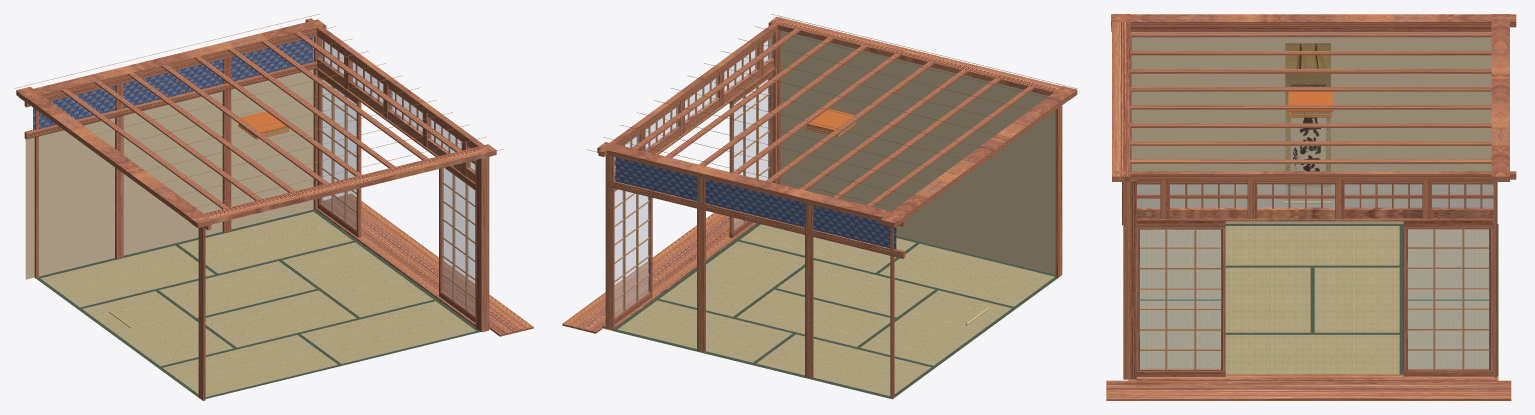
The model's file is room.glb.
3 views of the same model, side by side, from view 1: azimuth 30°, elevation 25°; view 2: azimuth 150°, elevation 25°; view 3: azimuth 270°, elevation 25° (orthographic). The views are drawn at different scales.
Parts seen in each view (by area): view 1: Tatami, Wall03, Roof-bone, Cube.354, WallPaper, Footer, Beam-01.001, Glass.02, Beam-01, Roof, Cube.028, Glass.004 (+23 smaller); view 2: Tatami, Wall01, Roof-bone, WallPaper, Cube.354, Footer, Beam-01, Beam-01.001, Roof, Glass.004, Cube.028, Cube.020 (+17 smaller); view 3: Tatami, Wall02, Roof-bone, Glass.02, Glass.004, Footer, Glass.01, Cube.028, 平面.001, Window03, Cube.030, Cube.354 (+21 smaller).
Boxes of the visible parts, left/top/right/bottom form: Tatami: left=37, top=210, right=489, bottom=397; Wall03: left=25, top=69, right=313, bottom=279; Roof-bone: left=61, top=32, right=461, bottom=208; Cube.354: left=36, top=209, right=480, bottom=398; WallPaper: left=33, top=37, right=313, bottom=130; Footer: left=322, top=193, right=533, bottom=336; Beam-01.001: left=189, top=144, right=496, bottom=227; Glass.02: left=442, top=168, right=475, bottom=314; Beam-01: left=18, top=19, right=326, bottom=102; Roof: left=14, top=14, right=503, bottom=223; Cube.028: left=16, top=86, right=212, bottom=227; Glass.004: left=321, top=79, right=356, bottom=228; Tatami: left=602, top=224, right=1057, bottom=397; Wall01: left=781, top=30, right=1055, bottom=274; Roof-bone: left=632, top=29, right=1034, bottom=206; WallPaper: left=615, top=157, right=896, bottom=249; Cube.354: left=612, top=223, right=1057, bottom=399; Footer: left=562, top=213, right=742, bottom=333; Beam-01: left=597, top=142, right=905, bottom=225; Beam-01.001: left=768, top=17, right=1077, bottom=100; Roof: left=587, top=14, right=1077, bottom=224; Glass.004: left=614, top=189, right=648, bottom=316; Cube.028: left=880, top=86, right=1076, bottom=227; Cube.020: left=606, top=180, right=905, bottom=258; Tatami: left=1128, top=224, right=1498, bottom=380; Wall02: left=1131, top=32, right=1497, bottom=223; Roof-bone: left=1130, top=32, right=1491, bottom=163; Glass.02: left=1140, top=229, right=1220, bottom=369; Glass.004: left=1408, top=229, right=1488, bottom=368; Footer: left=1106, top=380, right=1511, bottom=400; Glass.01: left=1137, top=184, right=1493, bottom=207; Cube.028: left=1111, top=14, right=1516, bottom=27; 平面.001: left=1285, top=43, right=1330, bottom=201; Window03: left=1137, top=207, right=1493, bottom=218; Cube.030: left=1113, top=171, right=1516, bottom=179; Cube.354: left=1140, top=224, right=1498, bottom=375.
Size of the model in its own units: 7.49 by 3.97 by 7.23.
Materials: 11 (5 with a texture image).
